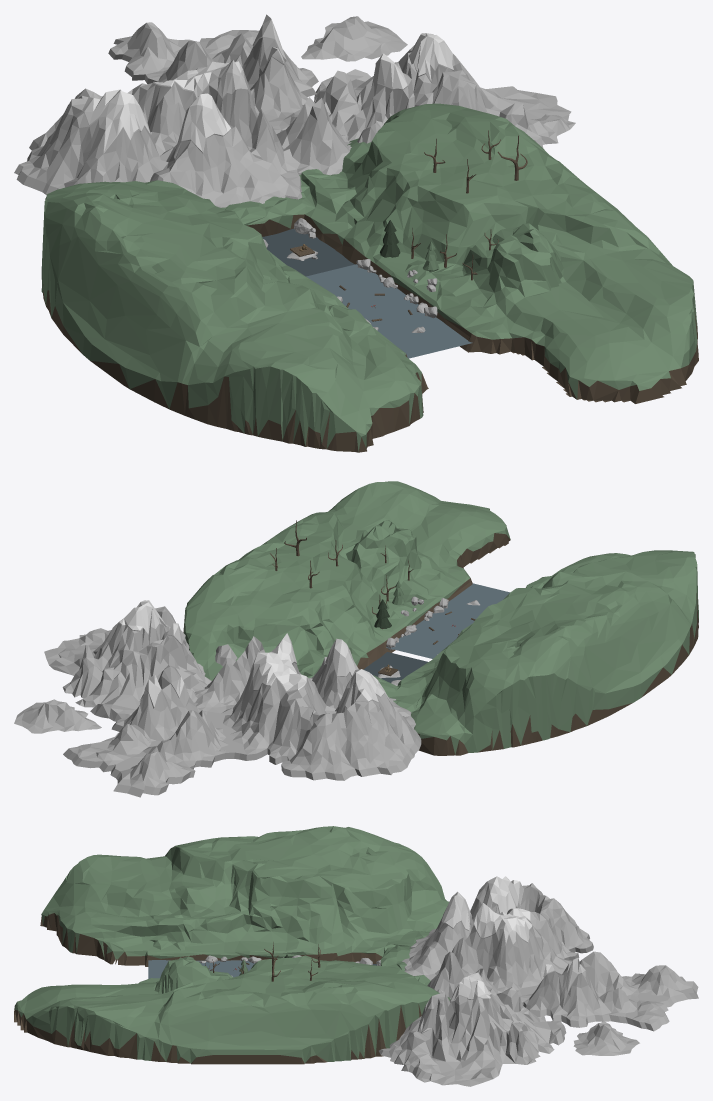
3 views of the same model, one above another, from view 1: azimuth 30°, elevation 25°; view 2: azimuth 150°, elevation 25°; view 3: azimuth 270°, elevation 25° (orthographic). The views are drawn at different scales.
Visible parts, largest first — view 1: Rock_V1_Big4; view 2: Rock_V1_Big4; view 3: Rock_V1_Big4.
Part boxes in pixels (<box>): Rock_V1_Big4: <box>14,14,698,452</box>; Rock_V1_Big4: <box>14,481,698,797</box>; Rock_V1_Big4: <box>14,826,698,1086</box>.
Bounding box in the file's own units: 5698 × 1131 × 7852.
